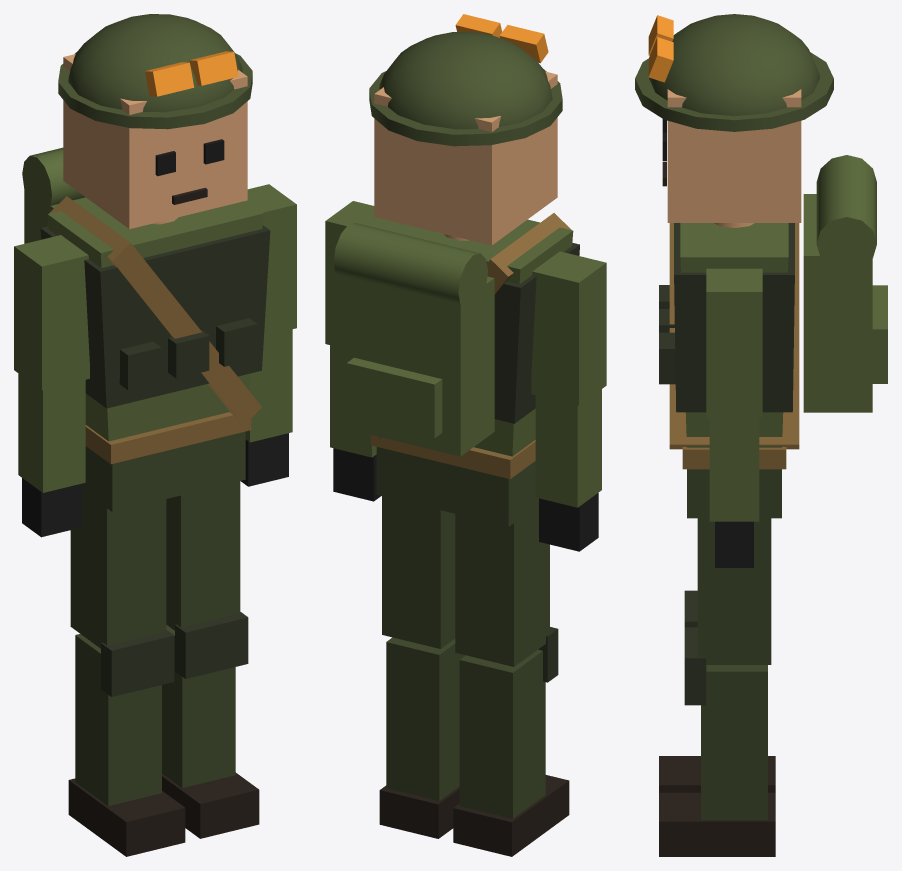
Rendered from Ranger.obj.
3 views of the same model, side by side, from view 1: azimuth 30°, elevation 25°; view 2: azimuth 150°, elevation 25°; view 3: azimuth 270°, elevation 25° (orthographic).
Visible parts, largest first — view 1: Vest, Head, Helmet, Thigh_R, Torso, Shin_R, UpperArm_R, Thigh_L, Shin_L, Pelvis, Forearm_R, Strap (+12 smaller); view 2: Backpack, Head, Helmet, Thigh_R, Shin_R, Shin_L, UpperArm_R, Thigh_L, Pelvis, Forearm_R, Vest, Torso (+10 smaller); view 3: Backpack, Helmet, Head, Vest, Shin_L, Thigh_L, UpperArm_L, Torso, Foot_L, Forearm_L, Strap, Pelvis (+6 smaller).
Part boxes in pixels (x1,y1,x2,y2): Vest: (40, 225, 270, 408); Head: (63, 54, 247, 228); Helmet: (58, 14, 252, 129); Thigh_R: (70, 468, 166, 648); Torso: (47, 201, 263, 441); Shin_R: (75, 634, 161, 806); UpperArm_R: (14, 235, 89, 390); Thigh_L: (166, 481, 240, 630); Shin_L: (162, 625, 235, 787); Pelvis: (85, 431, 245, 511); Forearm_R: (18, 373, 85, 492); Strap: (49, 196, 261, 424); Backpack: (333, 223, 494, 456); Head: (374, 71, 557, 245); Helmet: (369, 31, 562, 146); Thigh_R: (455, 482, 549, 666); Shin_R: (459, 649, 545, 818); Shin_L: (386, 637, 465, 800); UpperArm_R: (531, 251, 606, 405); Thigh_L: (382, 496, 455, 648); Pelvis: (376, 447, 535, 526); Forearm_R: (535, 389, 601, 507); Vest: (494, 242, 579, 423); Torso: (365, 217, 573, 456); Backpack: (803, 155, 887, 412); Helmet: (635, 14, 833, 131); Head: (667, 89, 801, 222); Vest: (659, 223, 794, 412); Shin_L: (701, 665, 767, 820); Thigh_L: (697, 493, 771, 664); UpperArm_L: (706, 268, 762, 417); Torso: (680, 223, 788, 447); Foot_L: (659, 792, 775, 856); Forearm_L: (709, 417, 759, 521); Strap: (669, 223, 799, 449); Pelvis: (687, 469, 781, 518).
Bounding box in the file's own units: 0.69 × 2.04 × 0.585.
